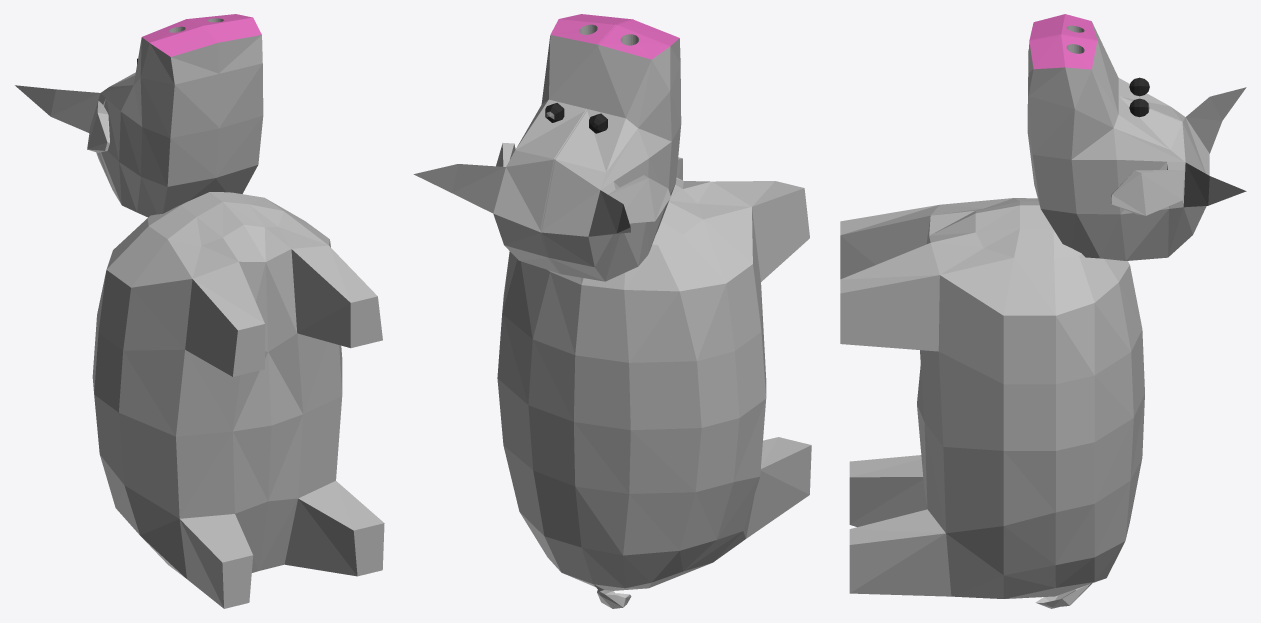
Rendered from cow_joined.fbx.
3 renders of one model, left to right at view 1: azimuth 30°, elevation 25°; view 2: azimuth 150°, elevation 25°; view 3: azimuth 270°, elevation 25°, orthographic. The views are drawn at different scales.
Visible parts, largest first — view 1: Cube; view 2: Cube; view 3: Cube.
Boxes of the visible parts, box(x1,y1,x2,y2) form: Cube: box(15, 14, 384, 608); Cube: box(413, 14, 811, 608); Cube: box(840, 14, 1246, 608).
Bounding box in the file's own units: 112 × 261 × 167.
